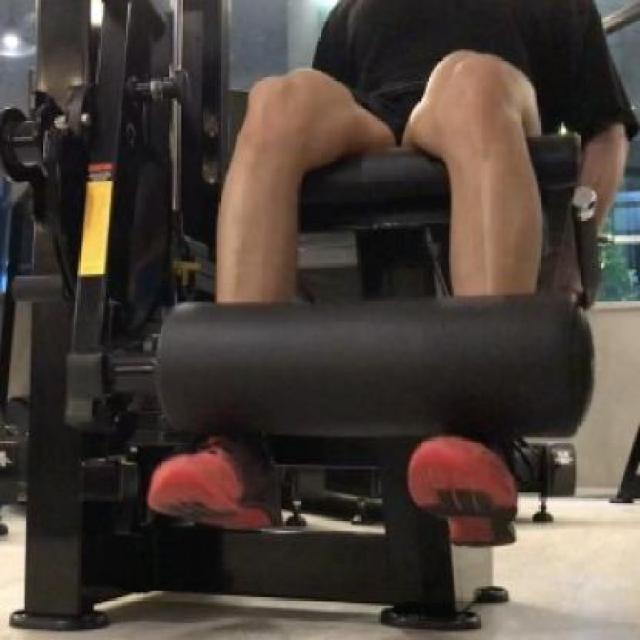leg extension: (0, 6, 632, 640)
